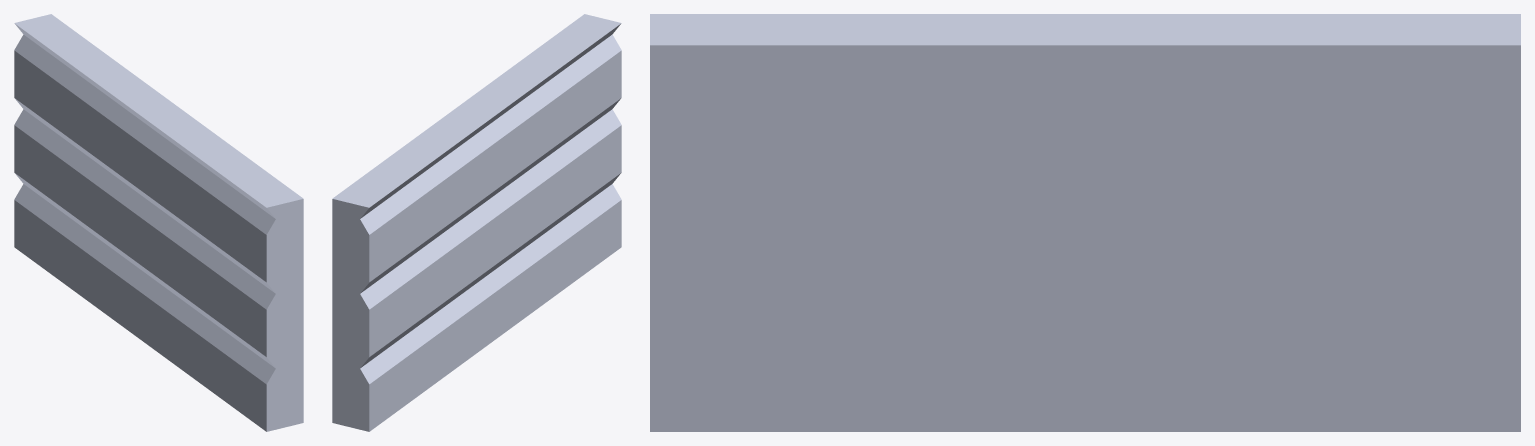
3 renders of one model, left to right at view 1: azimuth 30°, elevation 25°; view 2: azimuth 150°, elevation 25°; view 3: azimuth 270°, elevation 25°, orthographic. The views are drawn at different scales.
Parts seen in each view (by area): view 1: object_046; view 2: object_046; view 3: object_046.
Part boxes in pixels (x1=…): object_046: x1=14, y1=14, x2=303, y2=431; object_046: x1=332, y1=14, x2=621, y2=431; object_046: x1=650, y1=14, x2=1520, y2=431.
Size of the model in its own units: 0.0625 by 0.3602 by 0.7352.
